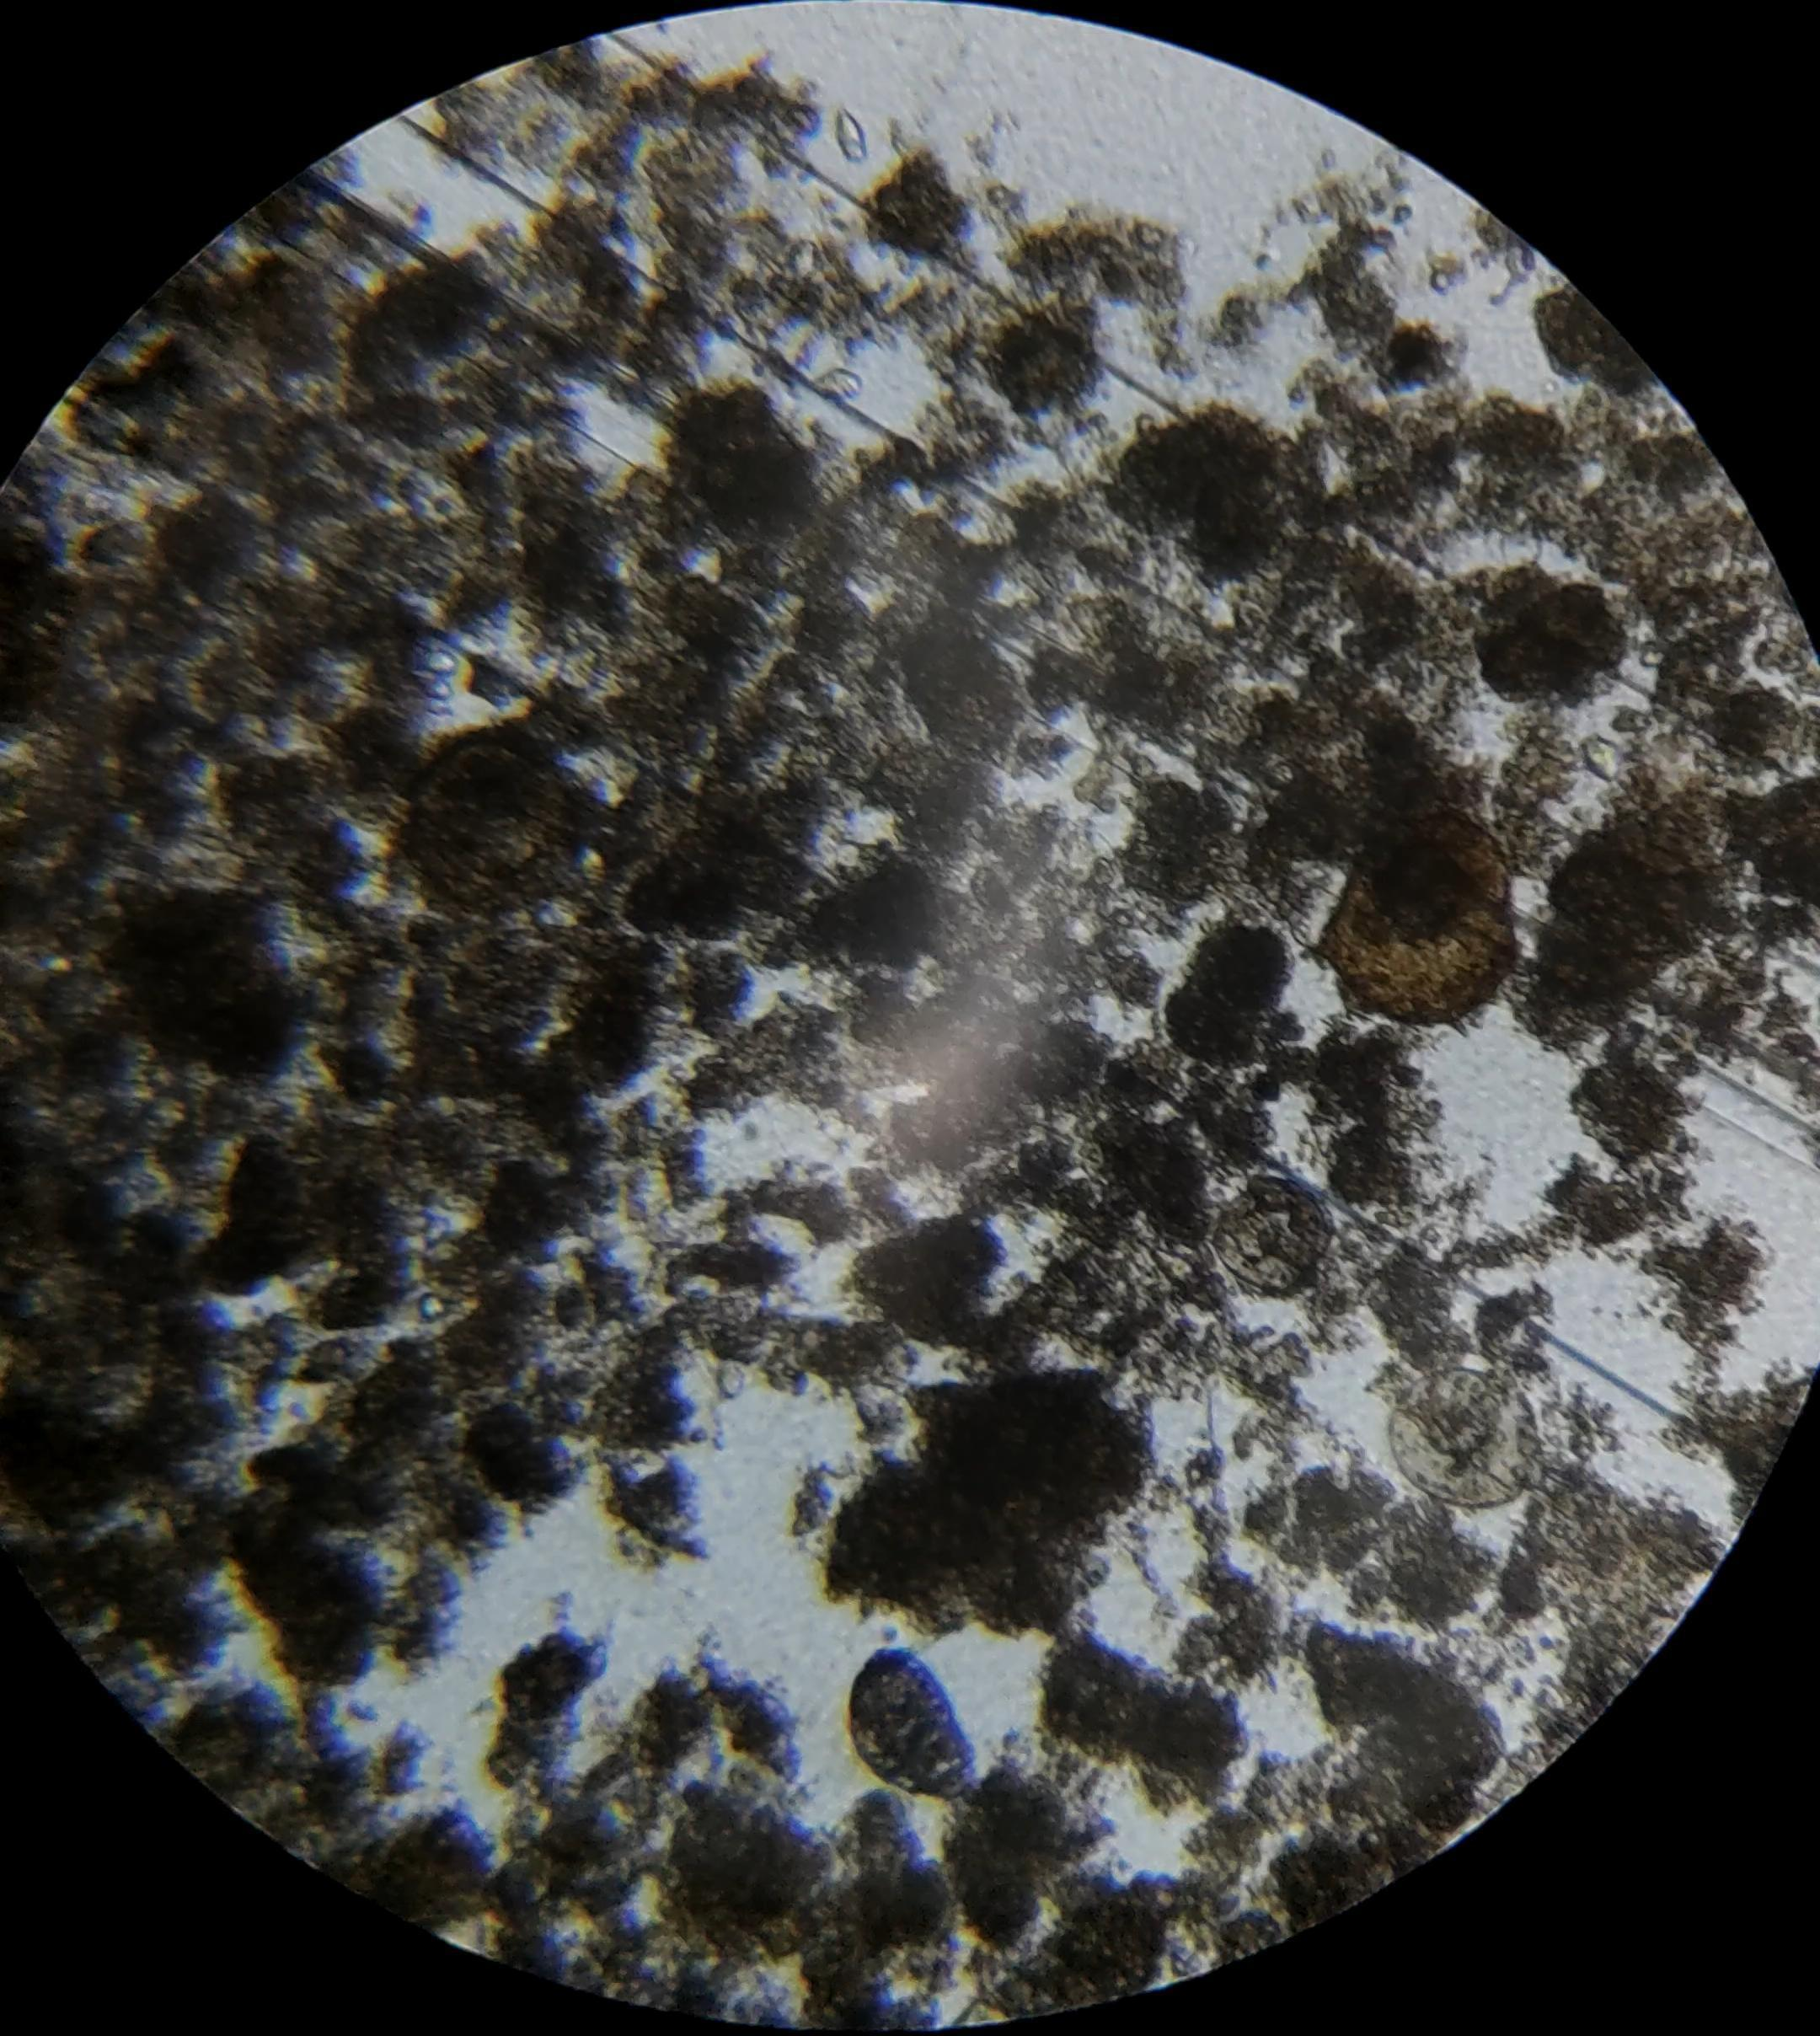Arcella: (1335, 815, 1514, 1022), (409, 740, 581, 913), (1391, 1368, 1539, 1505), (1214, 1179, 1326, 1289)
Mo: (850, 1618, 975, 1799)
